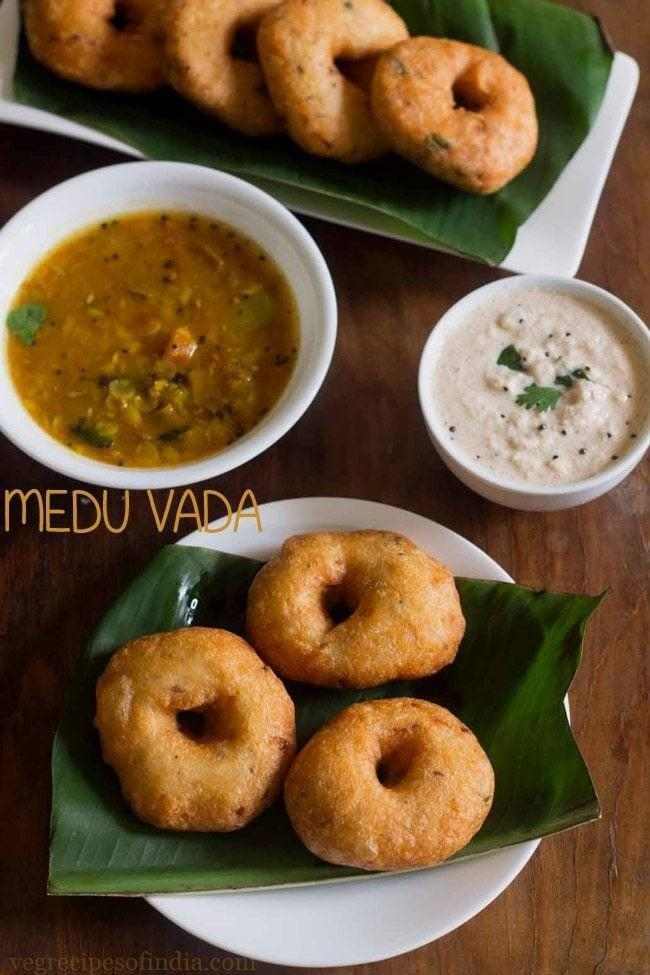medu vada: (75, 538, 537, 883)
